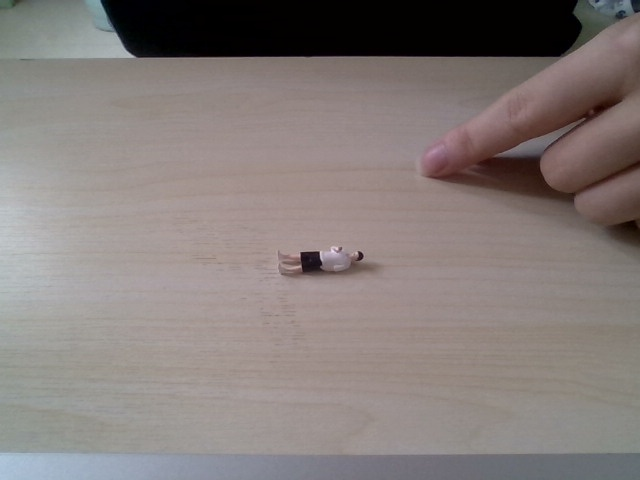fall: (273, 239, 372, 281)
